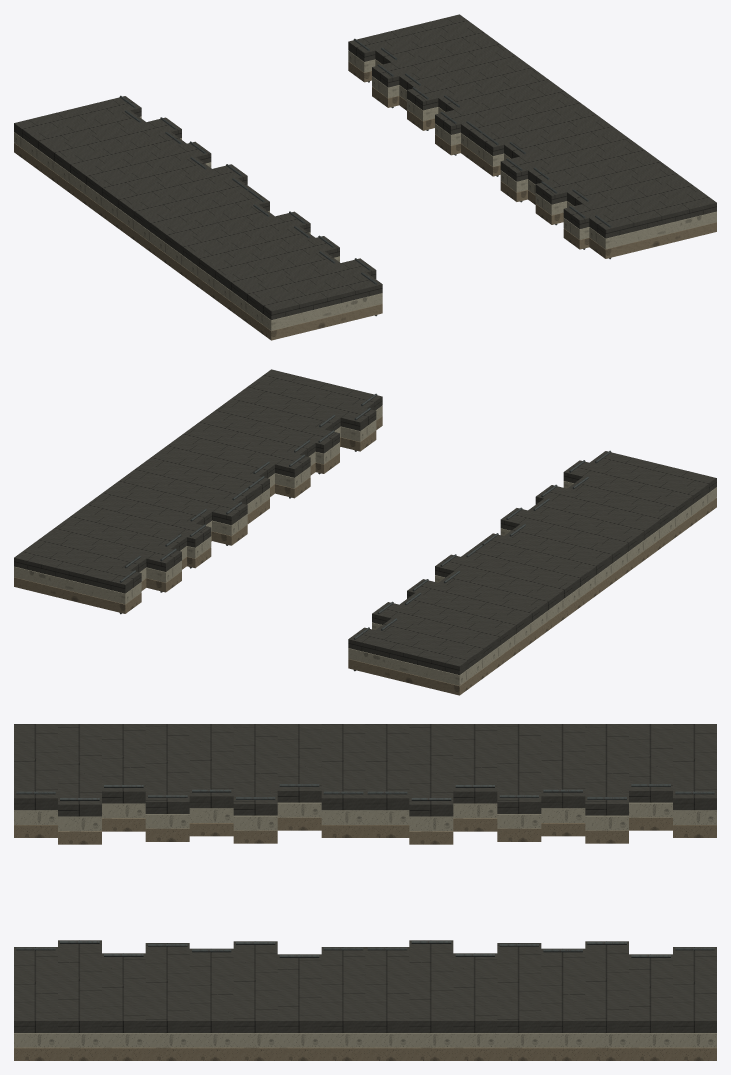
File: layered_roof-heavy.obj
3 renders of one model, top to bottom at view 1: azimuth 30°, elevation 25°; view 2: azimuth 150°, elevation 25°; view 3: azimuth 270°, elevation 25°, orthographic. The views are drawn at different scales.
Visible parts, largest first — view 1: layered_roof.Heavy; view 2: layered_roof.Heavy; view 3: layered_roof.Heavy.
Part boxes in pixels (x1,y1,x2,y2): layered_roof.Heavy: (14, 14, 716, 340); layered_roof.Heavy: (14, 369, 716, 695); layered_roof.Heavy: (14, 724, 716, 1060).
Bounding box in the file's own units: 16 × 1.15 × 16.
Materials: 4 (4 with a texture image).
